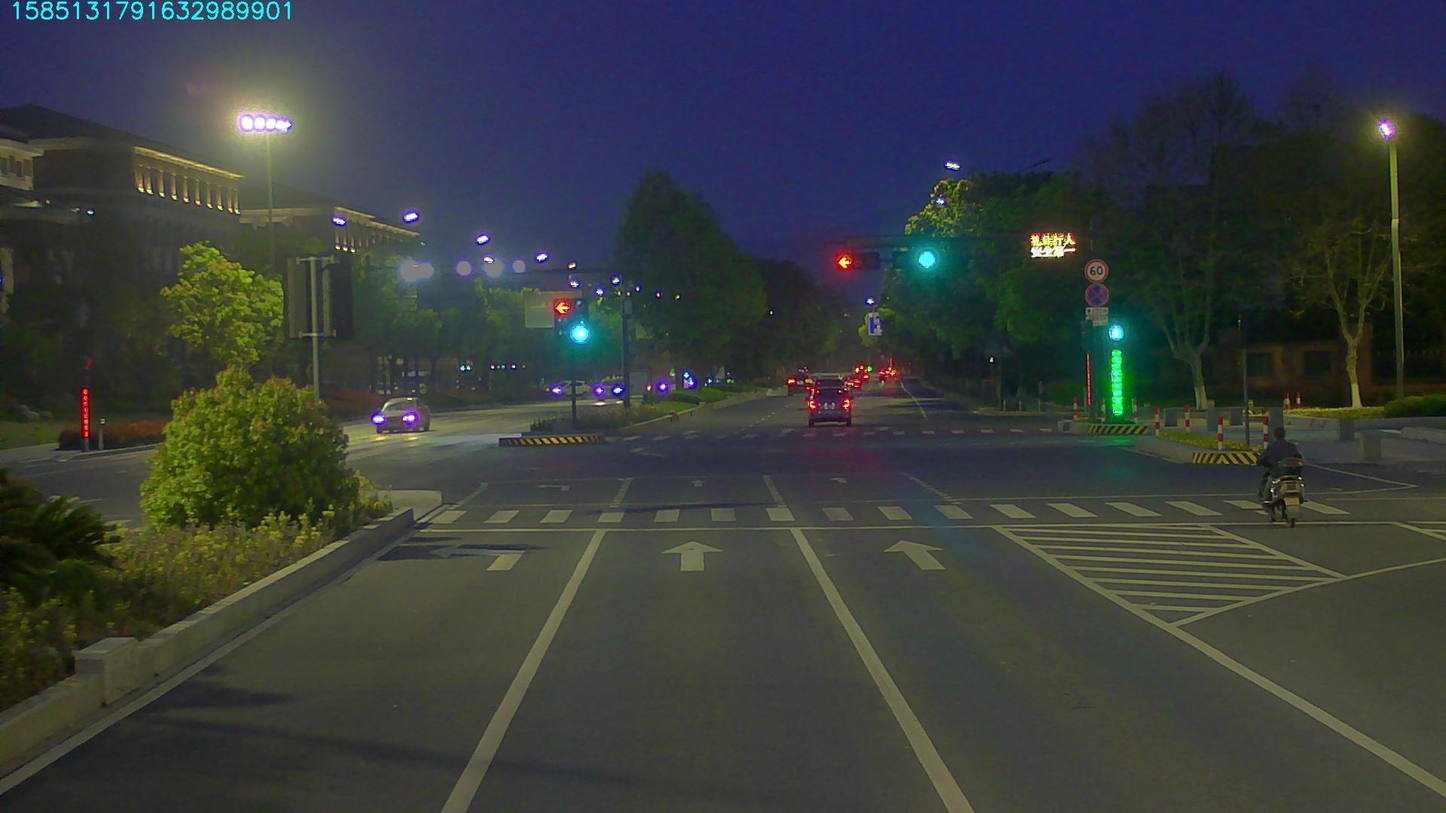green: (897, 251, 935, 264)
red: (837, 257, 888, 268)
